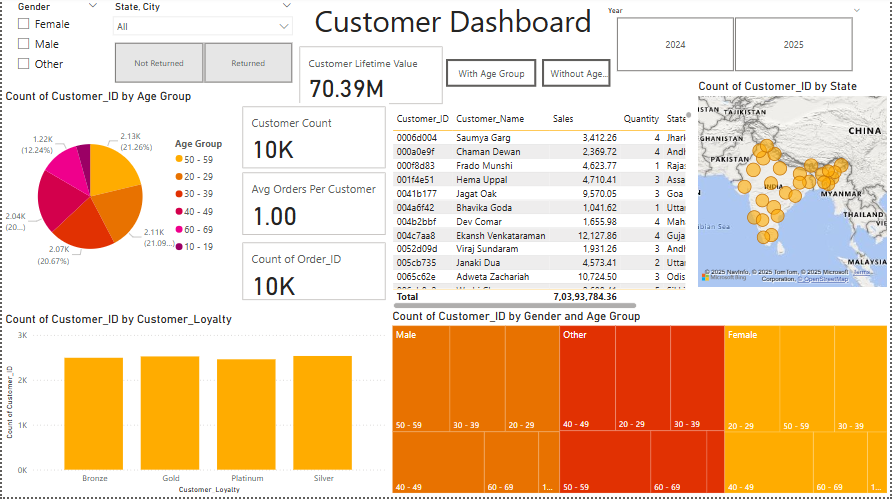

The page's visual inventory and layout, read from the dashboard file:
{"tool":"powerbi","page":{"name":"Customer Dashboard","canvas":[1280,720],"ordinal":2},"visuals":[{"type":"slicer","fields":{"Values":["Customers.Gender"]},"box":[10.1,0,139.7,122.4],"z":0},{"type":"slicer","fields":{"Values":["Customers.State","Customers.City"]},"box":[149.8,0,279.4,89.3],"z":1000},{"type":"slicer","fields":{"Values":["DateTable.Year Hierarchy.Year","DateTable.Year Hierarchy.Year-Month"]},"box":[950.4,4.3,279.4,105.1],"z":2000},{"type":"textbox","box":[445,0,424.8,92.2],"z":3000},{"type":"slicer","fields":{"Values":["Orders.Return_Status"]},"box":[136.8,59,305.3,70.6],"z":4000},{"type":"pieChart","fields":{"Y":["Customers.Customer_ID"],"Category":["Customers.Age Group"]},"box":[0,132.5,341.3,290.9],"z":5000},{"type":"cardVisual","fields":{"Data":["Orders.Customer Lifetime Value"]},"box":[423.4,66.2,216,93.6],"z":6000},{"type":"cardVisual","fields":{"Data":["Orders.Order_ID"]},"box":[341.3,348.5,216,93.6],"z":7000},{"type":"cardVisual","fields":{"Data":["Orders.Avg Orders Per Customer"]},"box":[341.3,247.7,216,100.8],"z":8000},{"type":"cardVisual","fields":{"Data":["Orders.Customer Count"]},"box":[341.3,152.6,216,99.4],"z":9000},{"type":"actionButton","box":[639.4,89.3,131,40.3],"z":10000},{"type":"actionButton","box":[777.6,89.3,99.4,40.3],"z":11000},{"type":"tableEx","fields":{"Values":["Orders.Customer_ID","Customers.Customer_Name","Orders.Sales","Orders.Quantity","Customers.State"]},"box":[557.3,159.8,440.6,293.8],"z":12000},{"type":"map","fields":{"Category":["Customers.State Hierarchy.State"],"Size":["Customers.Customer_ID"]},"box":[997.9,118.1,282.2,305.3],"z":13000},{"type":"columnChart","fields":{"Y":["Customers.Customer_ID"],"Category":["Orders.Customer_Loyalty"]},"box":[0,453.6,557.3,266.4],"z":14000},{"type":"treemap","fields":{"Values":["Orders.Customer_ID"],"Group":["Customers.Gender"]},"box":[556.6,453,723.4,270.4],"z":15000},{"type":"treemap","fields":{"Values":["Orders.Customer_ID"],"Group":["Customers.Gender"],"Details":["Customers.Age Group"]},"box":[556.6,449.6,723.4,270.4],"z":16000}]}

Visuals, with their boxes in screenshot pixels (x1, y1, x2, y2), scaled from the page's 1280x720 canvas onto the 892x500 screenshot:
slicer - Customers.Gender: select_region(7, 0, 104, 85)
slicer - Customers.State x Customers.City: select_region(104, 0, 299, 62)
slicer - DateTable.Year Hierarchy.Year x DateTable.Year Hierarchy.Year-Month: select_region(662, 3, 857, 76)
textbox: select_region(310, 0, 606, 64)
slicer - Orders.Return_Status: select_region(95, 41, 308, 90)
pieChart - Customers.Customer_ID x Customers.Age Group: select_region(0, 92, 238, 294)
cardVisual - Orders.Customer Lifetime Value: select_region(295, 46, 446, 111)
cardVisual - Orders.Order_ID: select_region(238, 242, 388, 307)
cardVisual - Orders.Avg Orders Per Customer: select_region(238, 172, 388, 242)
cardVisual - Orders.Customer Count: select_region(238, 106, 388, 175)
actionButton: select_region(446, 62, 537, 90)
actionButton: select_region(542, 62, 611, 90)
tableEx - Orders.Customer_ID x Customers.Customer_Name: select_region(388, 111, 695, 315)
map - Customers.State Hierarchy.State x Customers.Customer_ID: select_region(695, 82, 891, 294)
columnChart - Customers.Customer_ID x Orders.Customer_Loyalty: select_region(0, 315, 388, 499)
treemap - Orders.Customer_ID x Customers.Gender: select_region(388, 315, 891, 499)
treemap - Orders.Customer_ID x Customers.Gender: select_region(388, 312, 891, 499)
